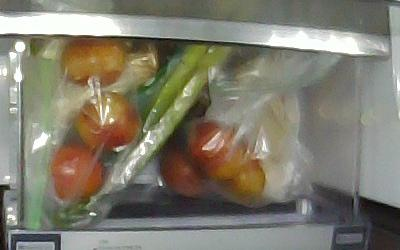prune_vinyl: (75, 89, 141, 150), (58, 36, 125, 87), (50, 144, 105, 201), (158, 146, 217, 197), (222, 157, 266, 204), (188, 122, 232, 169), (204, 139, 247, 181)
